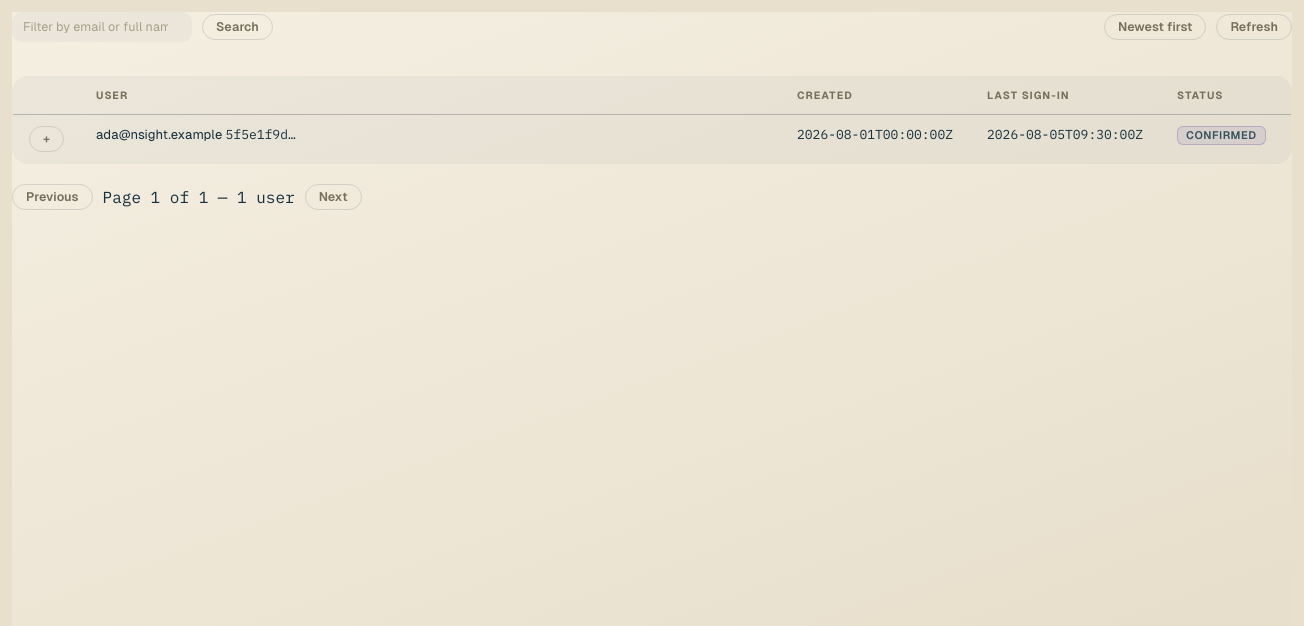
Test: AuthUsersClient — query controls › the sort chip flips created_at direction and refetches from page 1
This screenshot has width=1304, height=626.
Expected: the table is shown, [13,77,1291,163]
Click the button "Newest first" at [1155, 27], box [1104,14,1206,40]
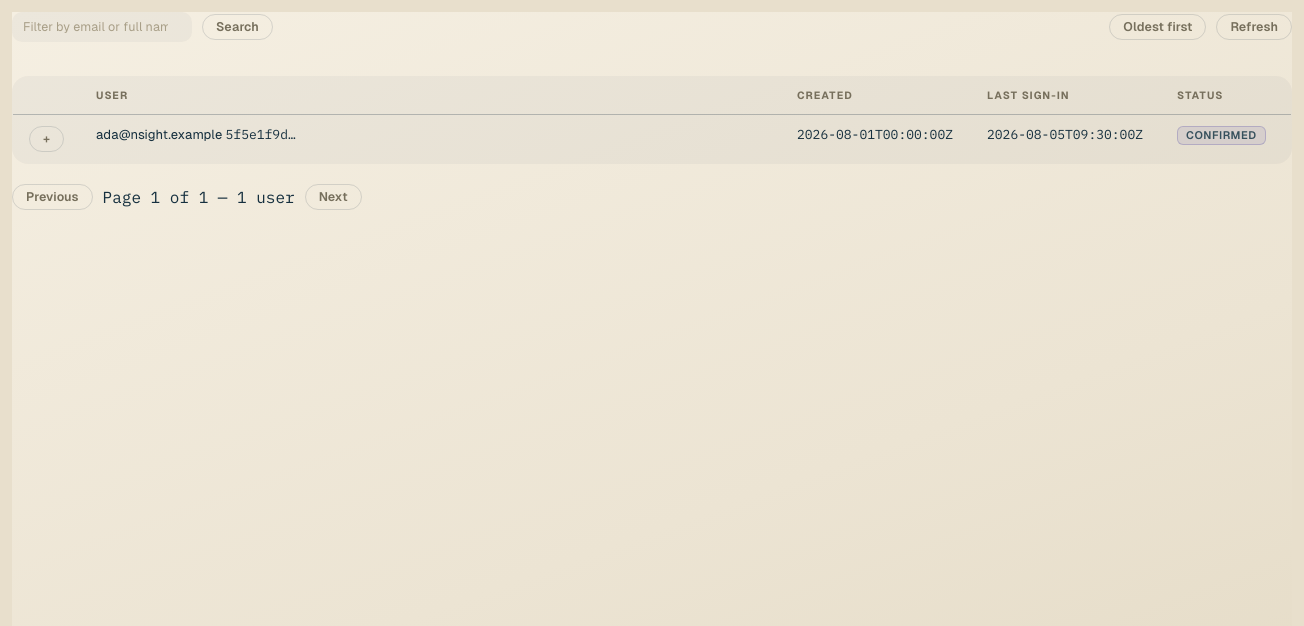
Now the button "Oldest first" is shown, box [1109,14,1206,40]
